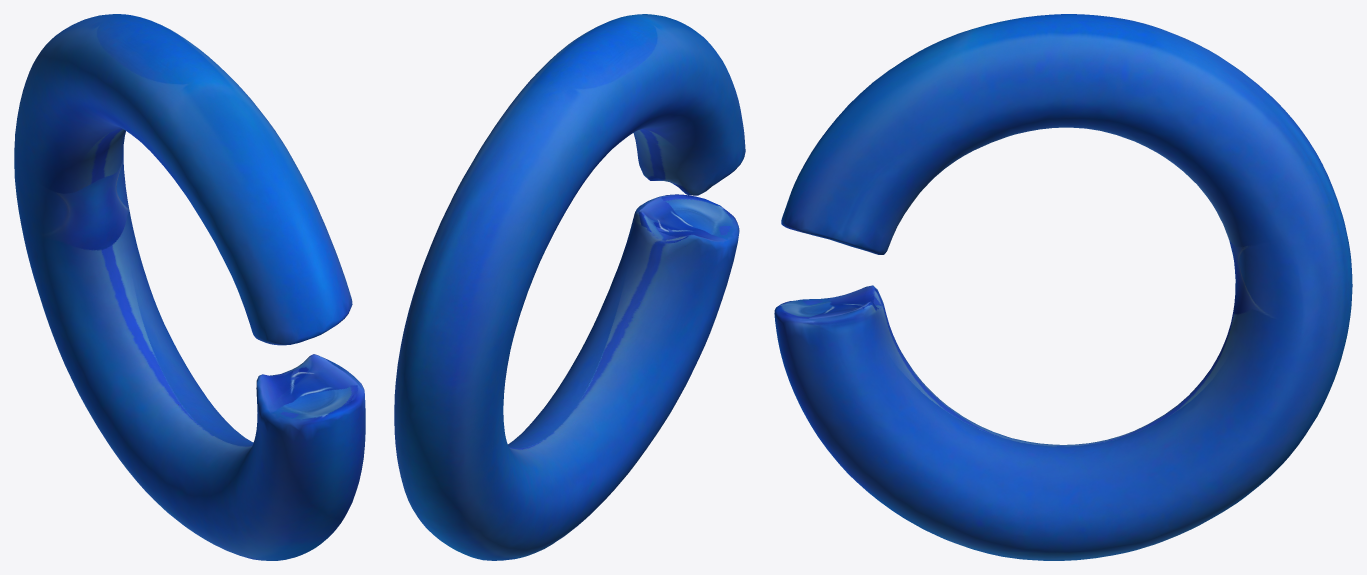
File: ring.glb
3 views of the same model, side by side, from view 1: azimuth 30°, elevation 25°; view 2: azimuth 150°, elevation 25°; view 3: azimuth 270°, elevation 25° (orthographic).
Size of the model in its own units: 0.5989 by 1.94 by 2.
1 material, 1 textured.
